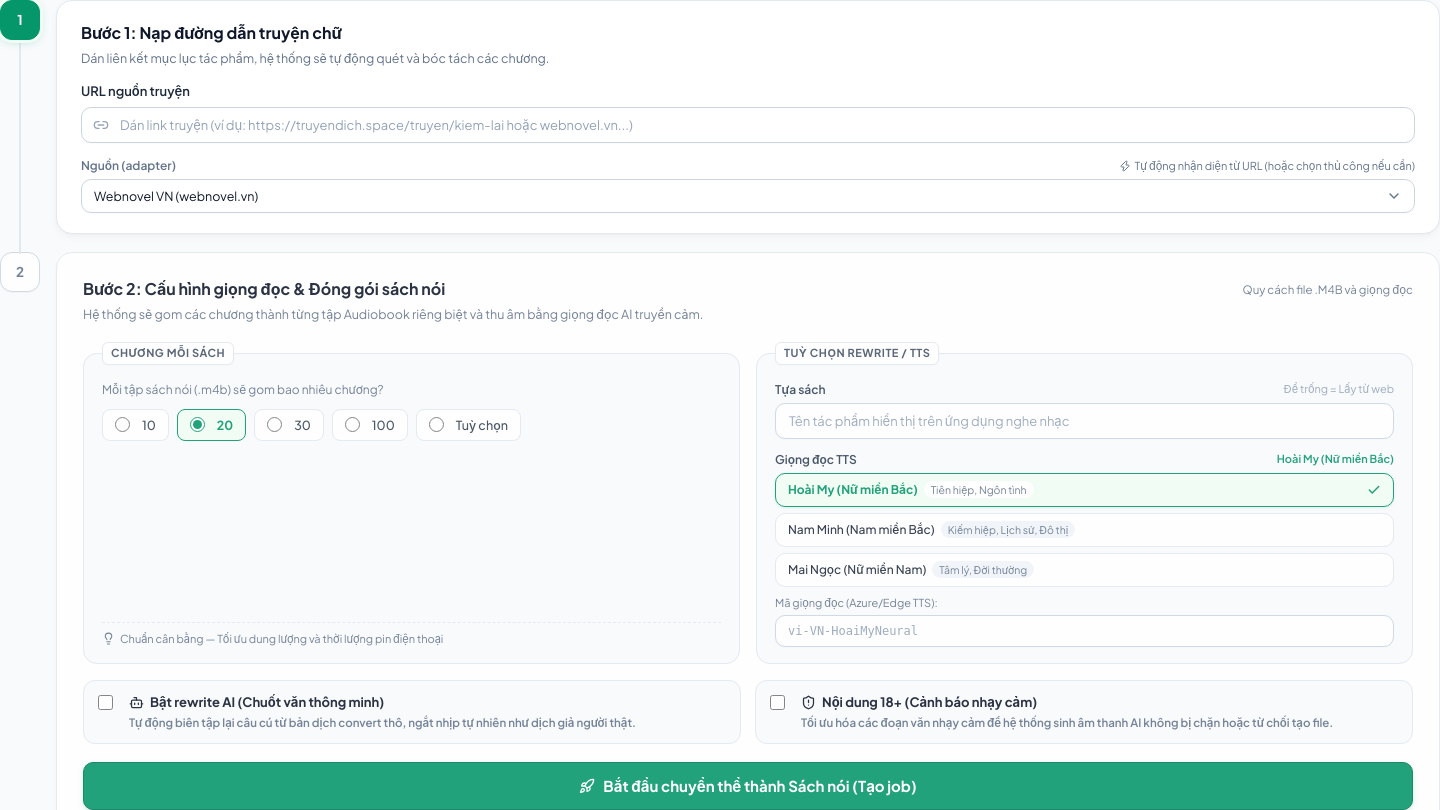
Test case: CreateJobForm › chặn sourceUrl sai ngay trên client — KHÔNG gọi fetch, hiện lời rõ ràng
Replace the text in the field labelled "URL nguồn truyện" with "khong-phai-url": point(748, 125) [81,107,1415,143]
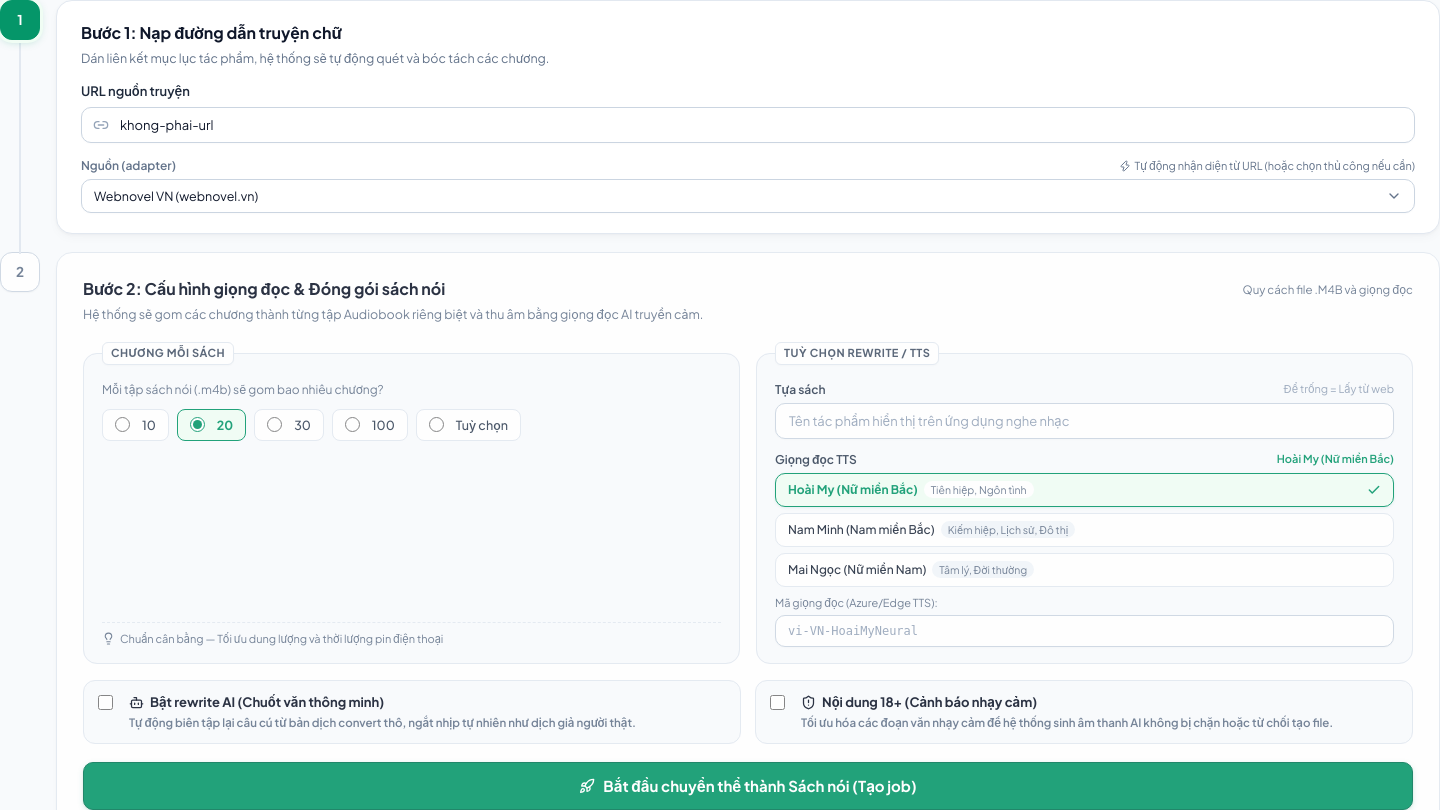
Click the button "Tạo job": point(748, 786) [83,762,1413,809]
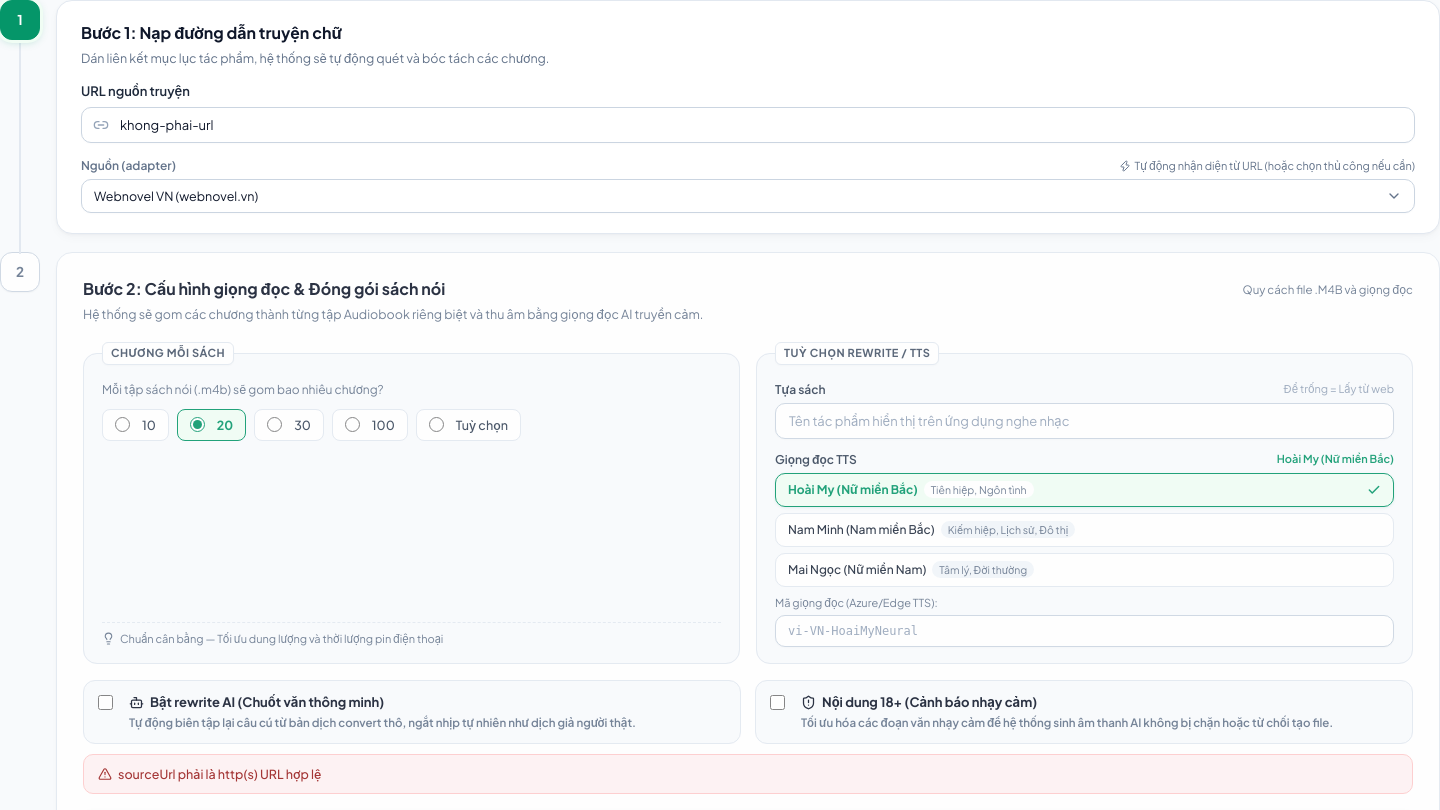
expect the message shows "http(s) URL": met, box [118,766,321,782]
